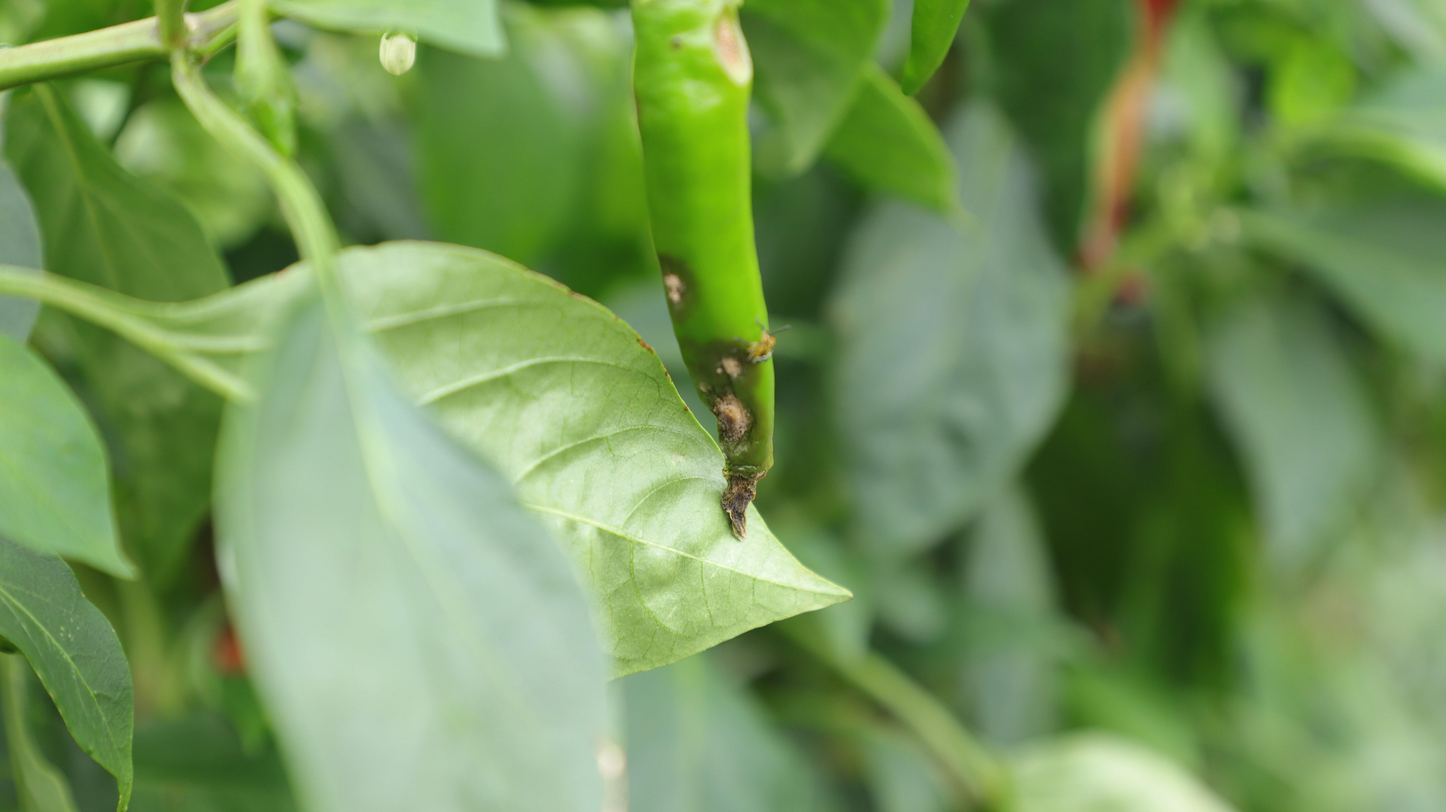Busuk Buah Antraknosa: (628, 0, 791, 542)
